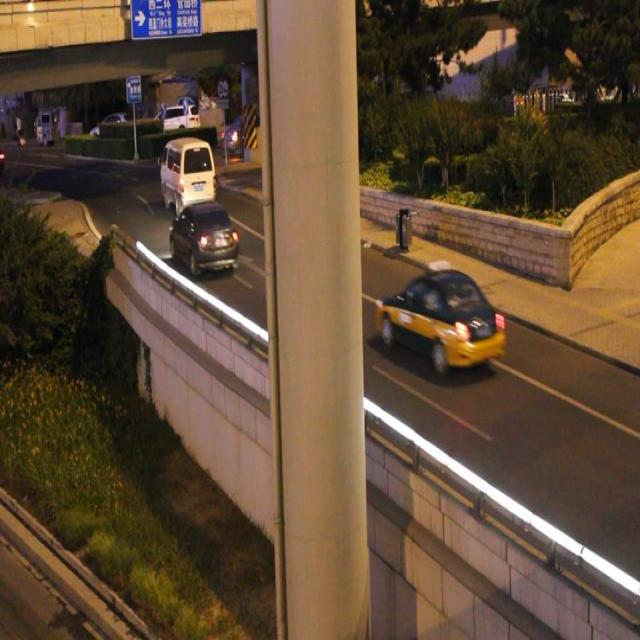car: (375, 261, 503, 374), (166, 200, 239, 273)
truck: (158, 138, 216, 214)
